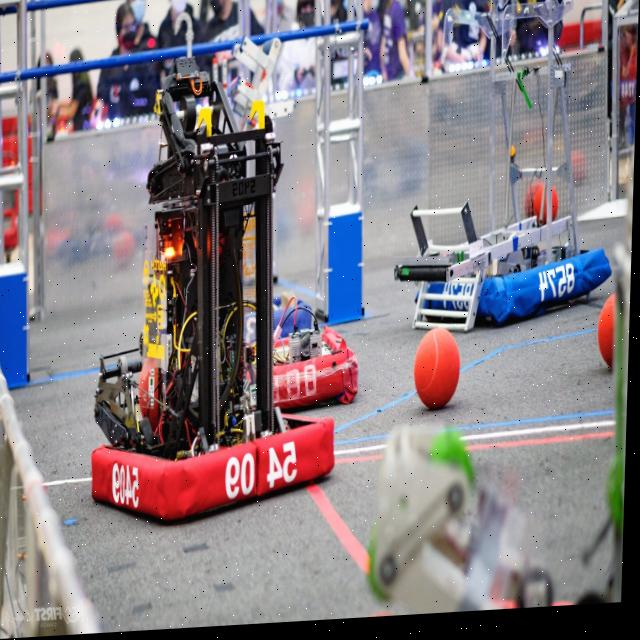robot: (93, 53, 353, 527), (409, 0, 618, 357), (243, 328, 362, 421)
